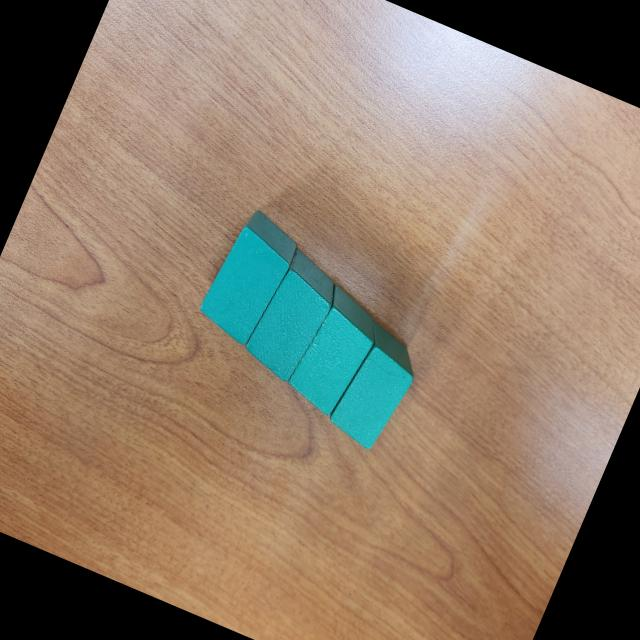green: (194, 205, 306, 351), (238, 245, 346, 388), (280, 280, 389, 421), (321, 318, 428, 457)
